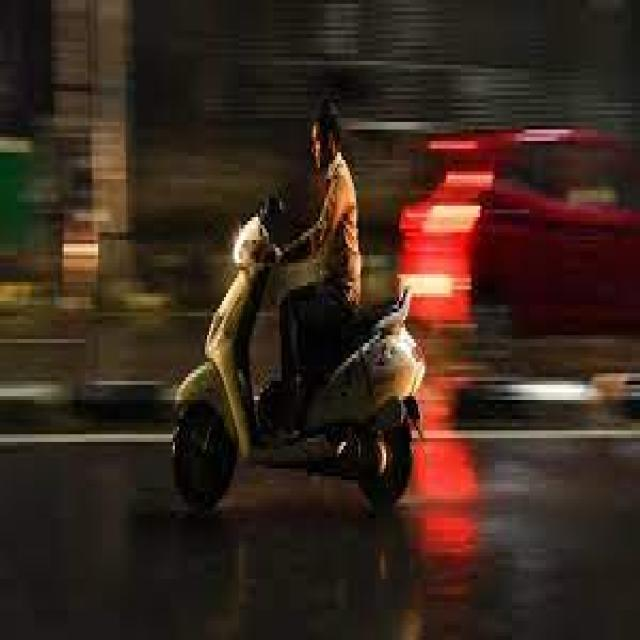without helmet: (307, 98, 347, 184)
